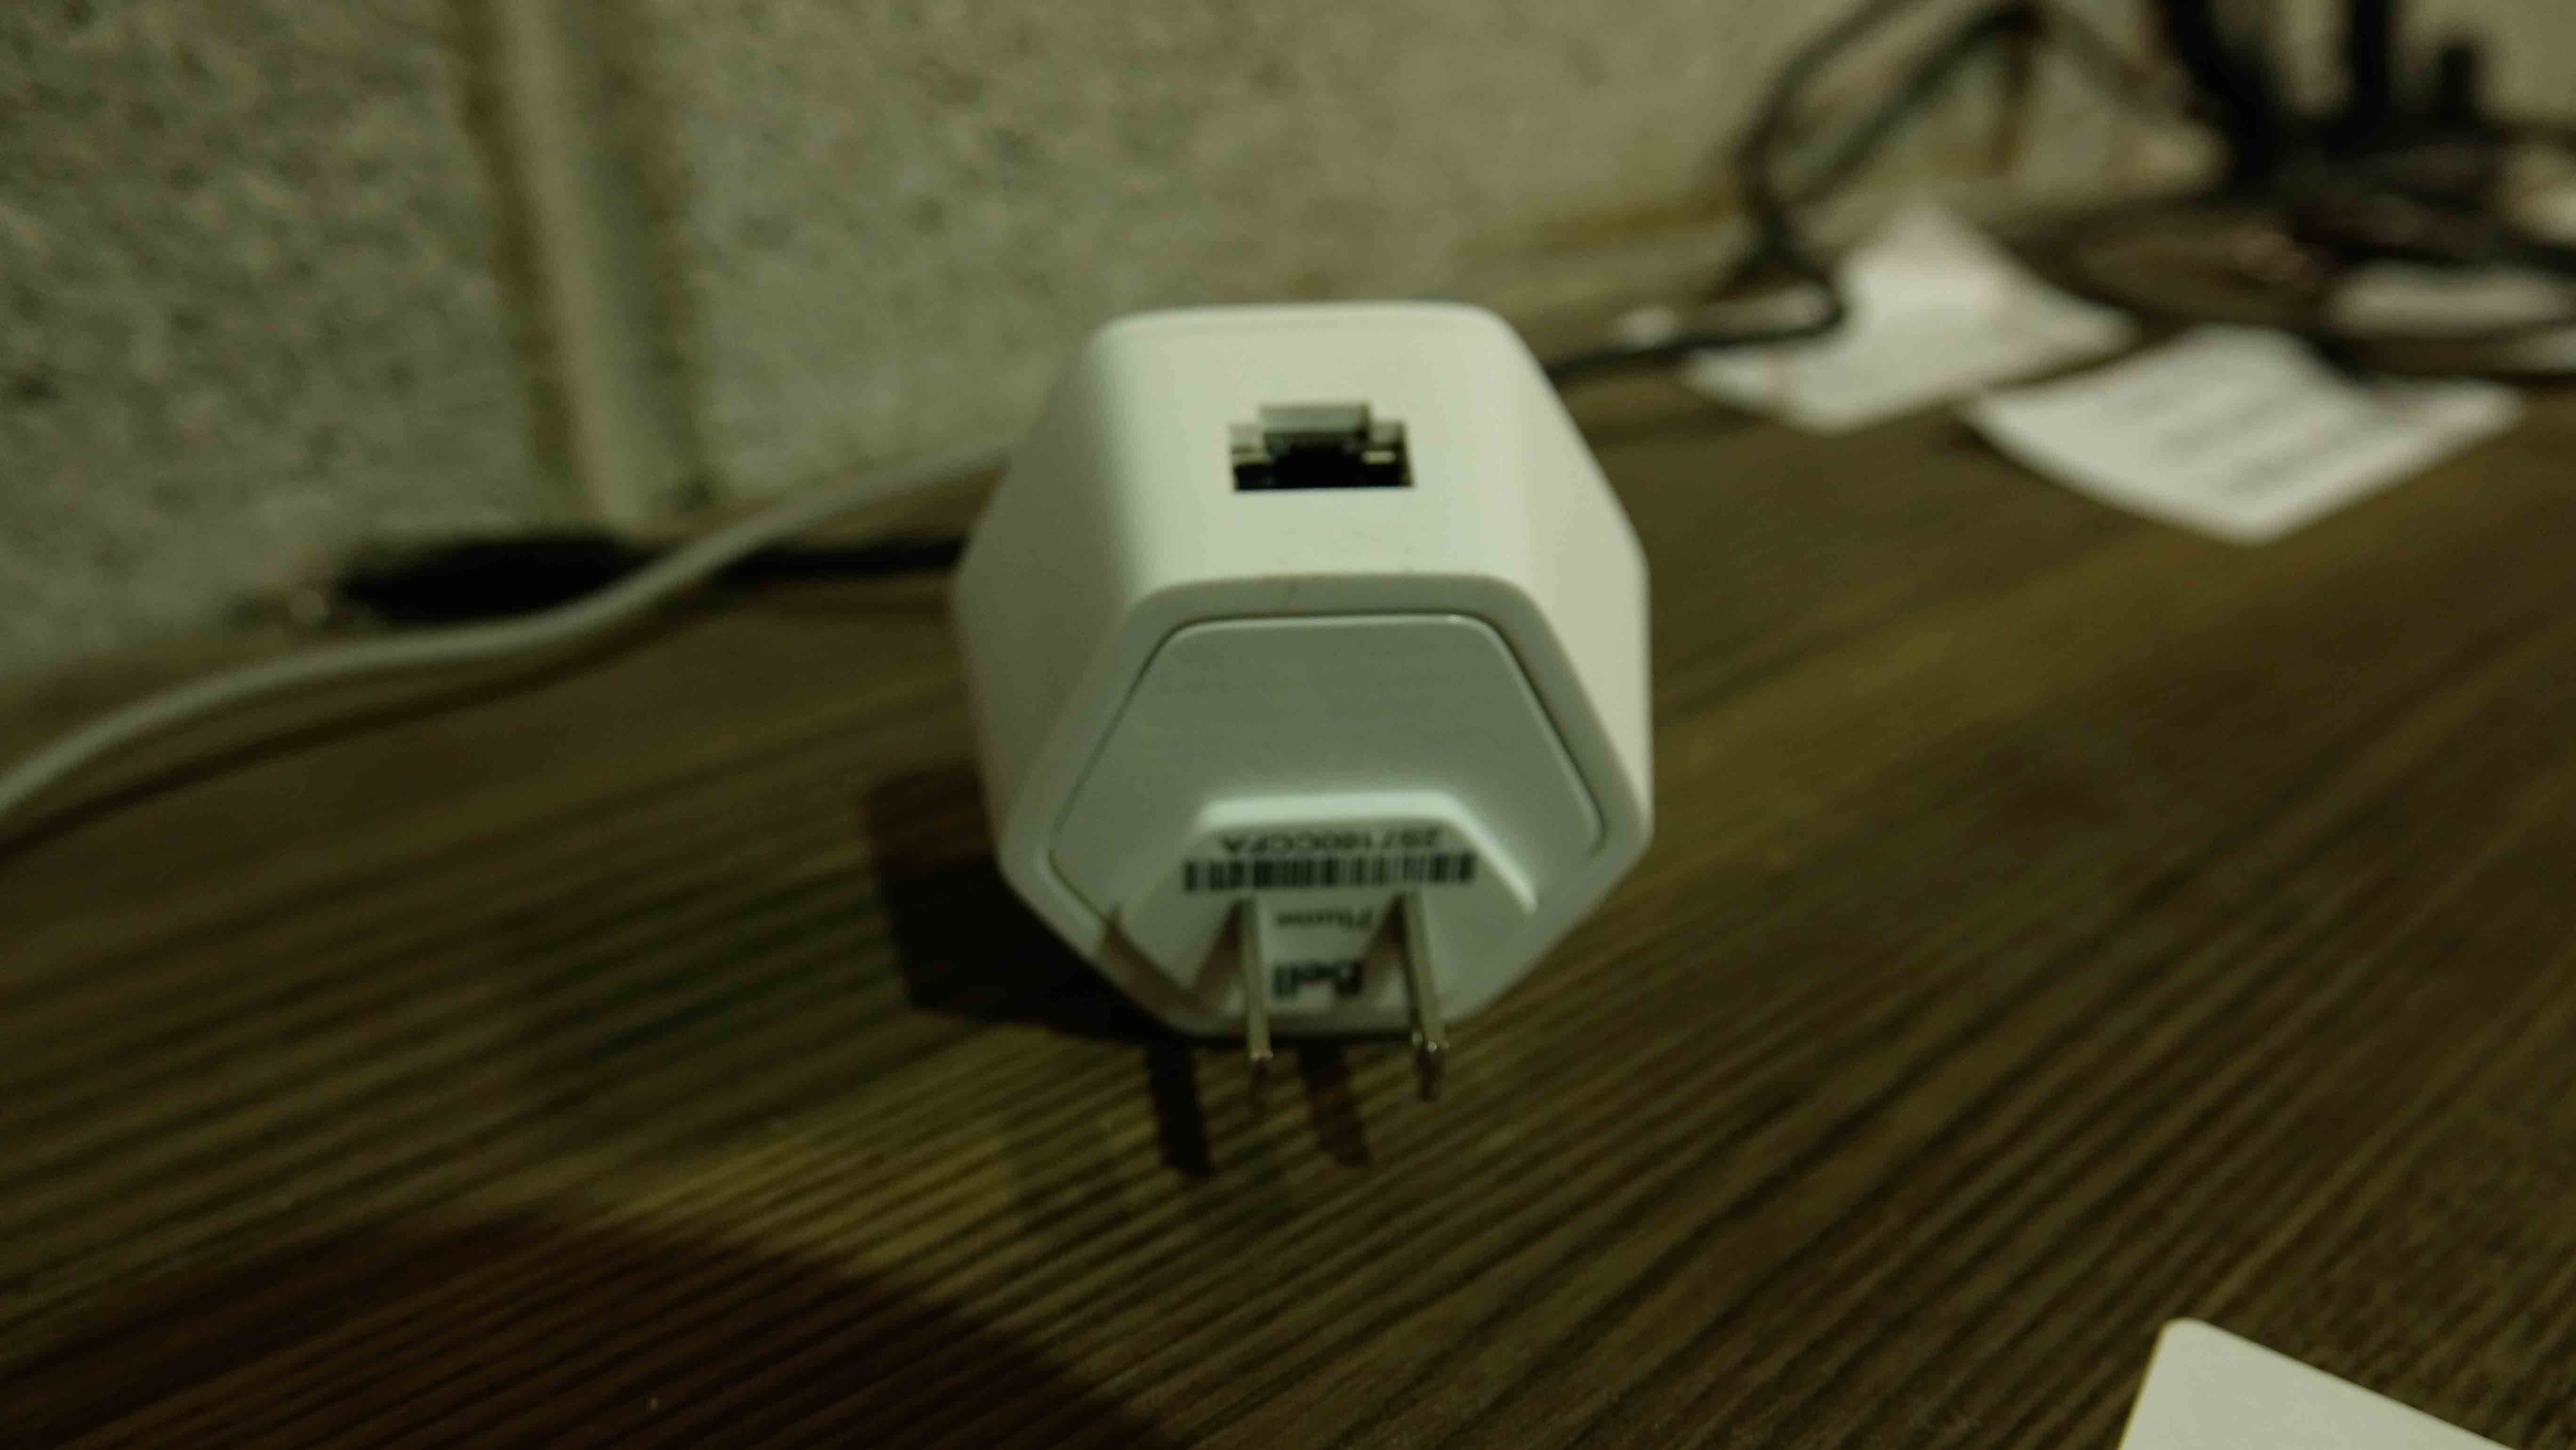pod: (929, 283, 1688, 1130)
